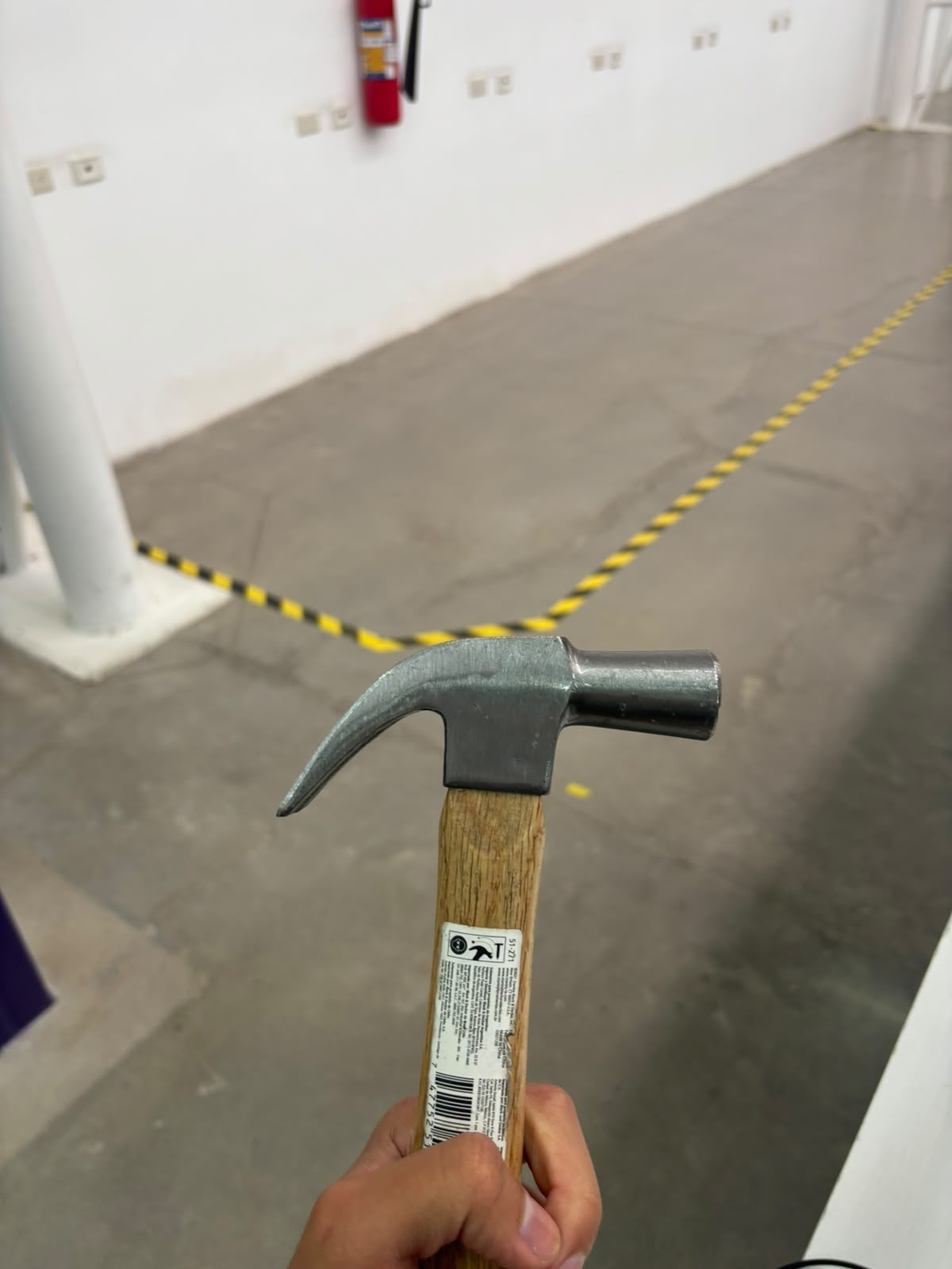hammer: (250, 564, 787, 1215)
